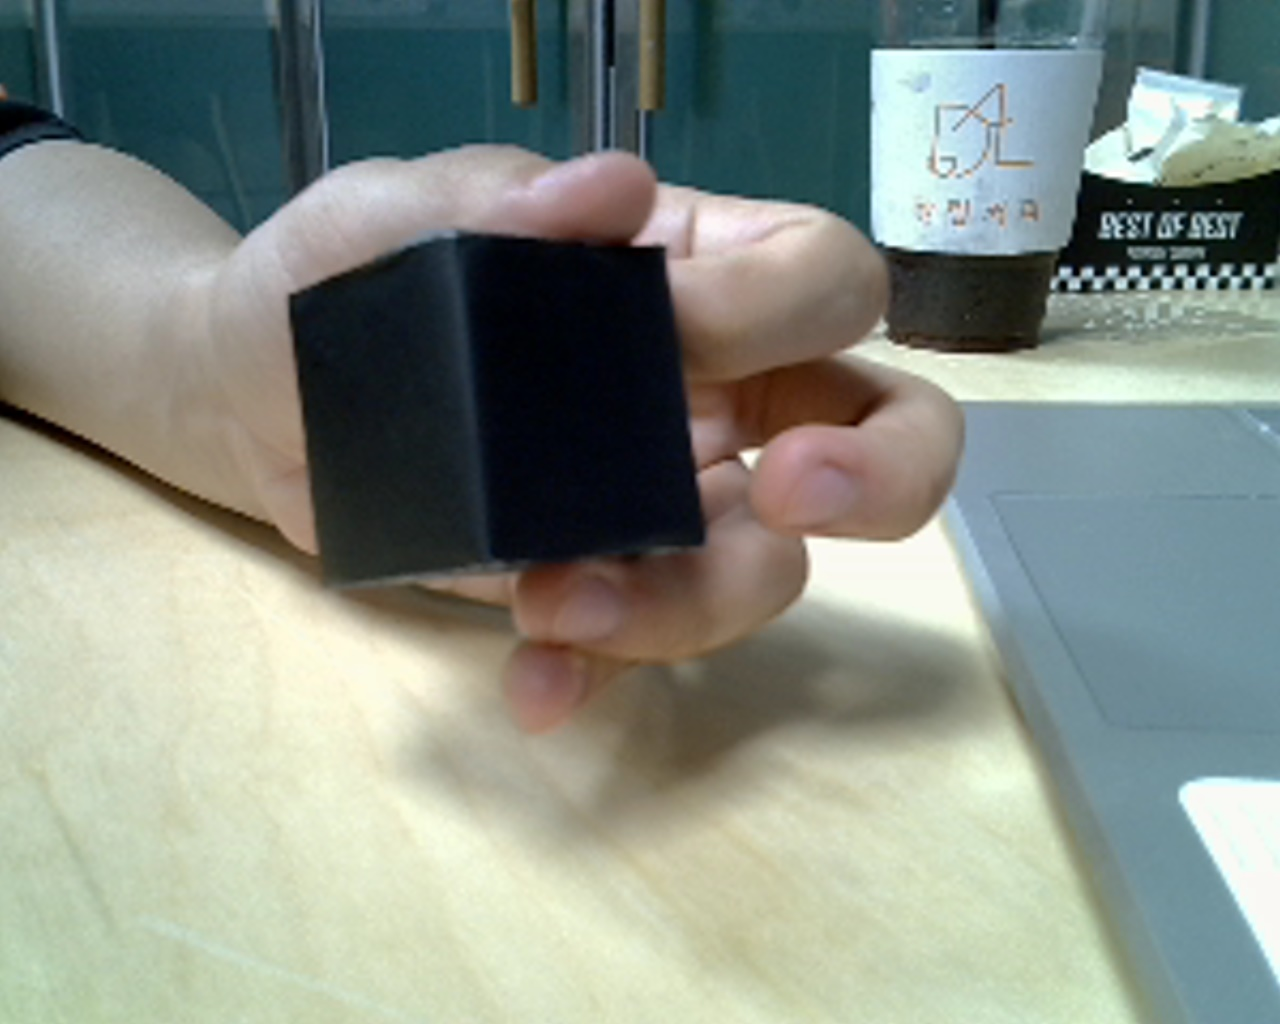blackbox: (240, 173, 759, 642)
